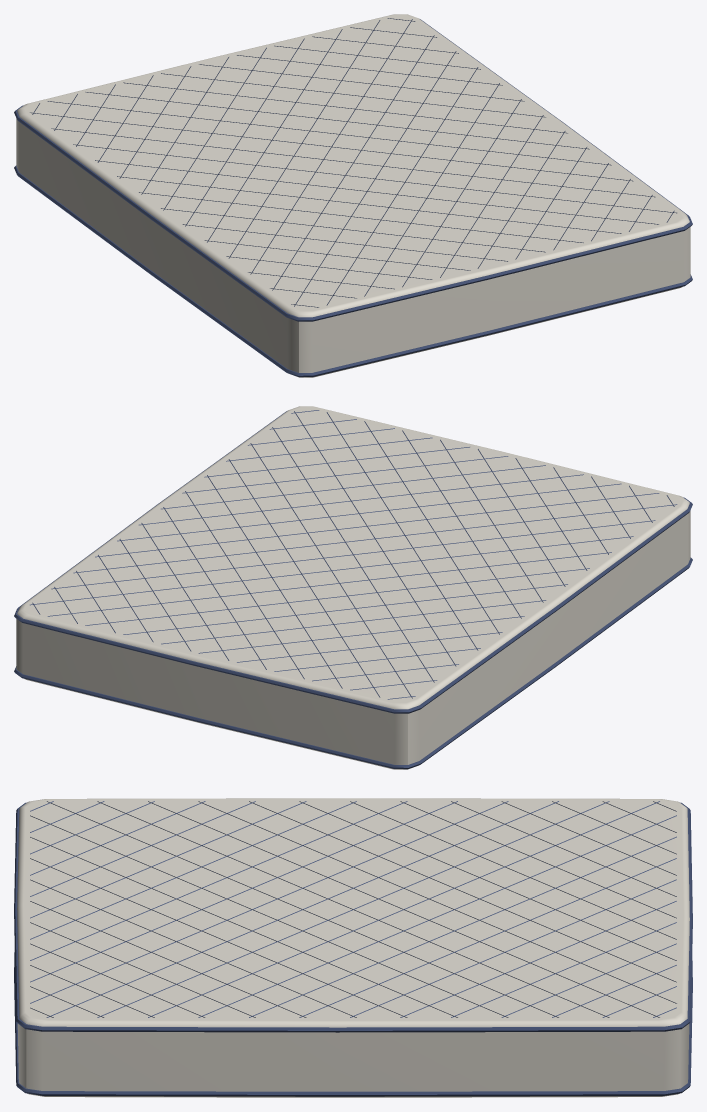
The model's file is nem_lo_xo_160.mid.glb.
The picture shows the model from 3 angles, top to bottom: view 1: azimuth 30°, elevation 25°; view 2: azimuth 150°, elevation 25°; view 3: azimuth 270°, elevation 25°; orthographic projection. The views are drawn at different scales.
Parts seen in each view (by area): view 1: nem_lo_xo_160; view 2: nem_lo_xo_160; view 3: nem_lo_xo_160.
Part boxes in pixels (x1,y1,x2,y2): nem_lo_xo_160: (14, 14, 692, 377); nem_lo_xo_160: (14, 406, 692, 769); nem_lo_xo_160: (14, 798, 692, 1097).
Bounding box in the file's own units: 1.62 × 0.2518 × 2.02.
